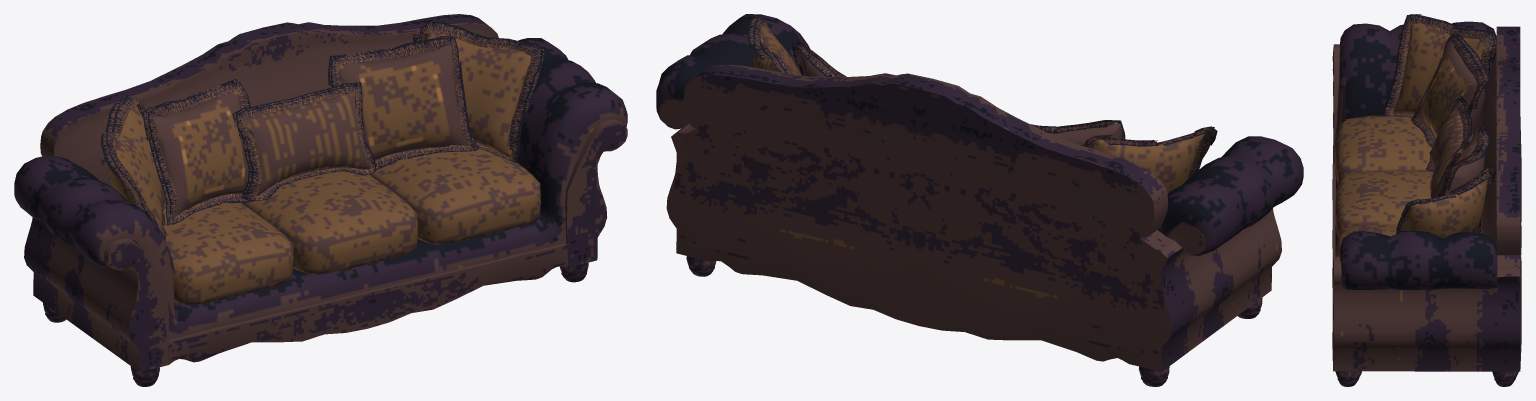
Rendered from sofa.fbx.
3 views of the same model, side by side, from view 1: azimuth 30°, elevation 25°; view 2: azimuth 150°, elevation 25°; view 3: azimuth 270°, elevation 25° (orthographic). The views are drawn at different scales.
Parts seen in each view (by area): view 1: sofa_2; view 2: sofa_2; view 3: sofa_2.
Part boxes in pixels (left/top/right/bottom): sofa_2: left=14, top=14, right=627, bottom=386; sofa_2: left=656, top=14, right=1303, bottom=386; sofa_2: left=1332, top=14, right=1521, bottom=386.
Size of the model in its own units: 414 by 169 by 140.
